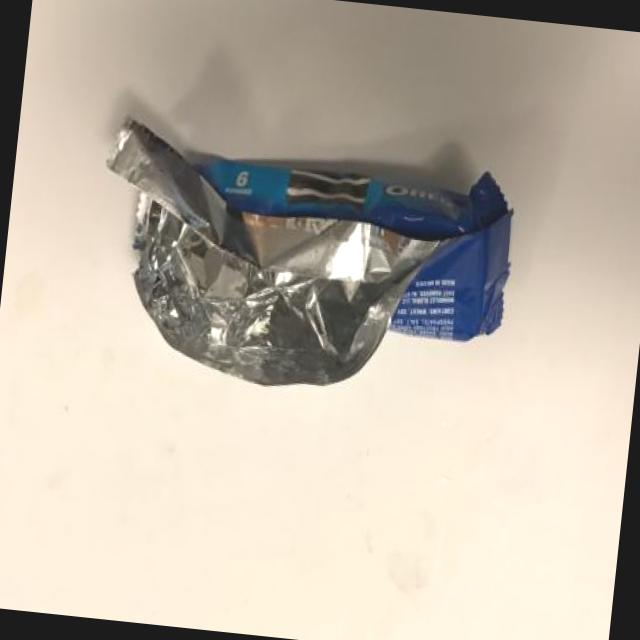Trash: (82, 108, 525, 408)
